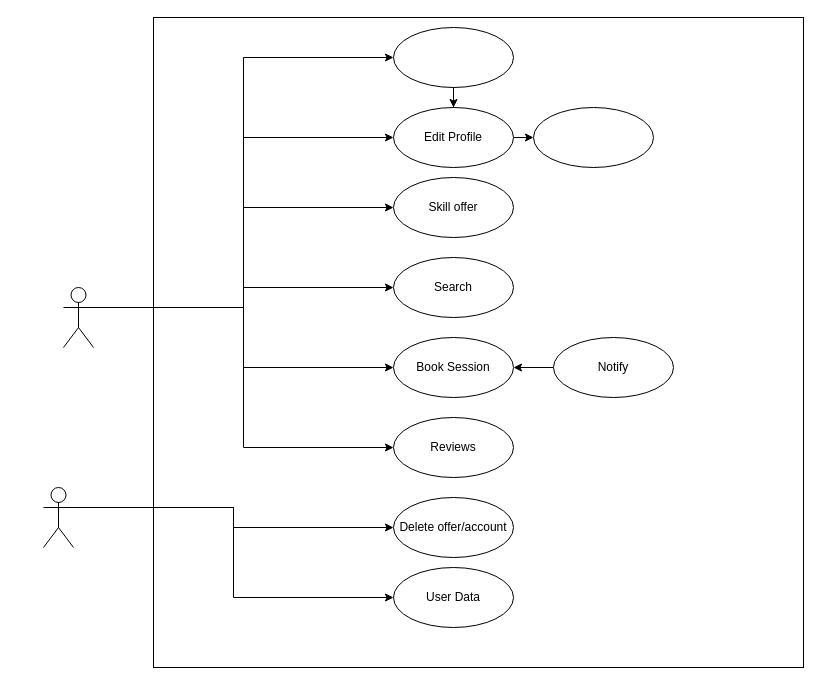
This 821x685 diagram has some shape labels left out. The shapes that lost their labels are listed below. From the top down, each one's box as (x1, y1, x2, y2) in pixels, then its label:
(392, 26, 514, 88): Sign up/Login
(532, 106, 654, 168): Switch Roles
(62, 286, 94, 348): Student(Tutor/Learner)
(42, 486, 74, 548): Admin
